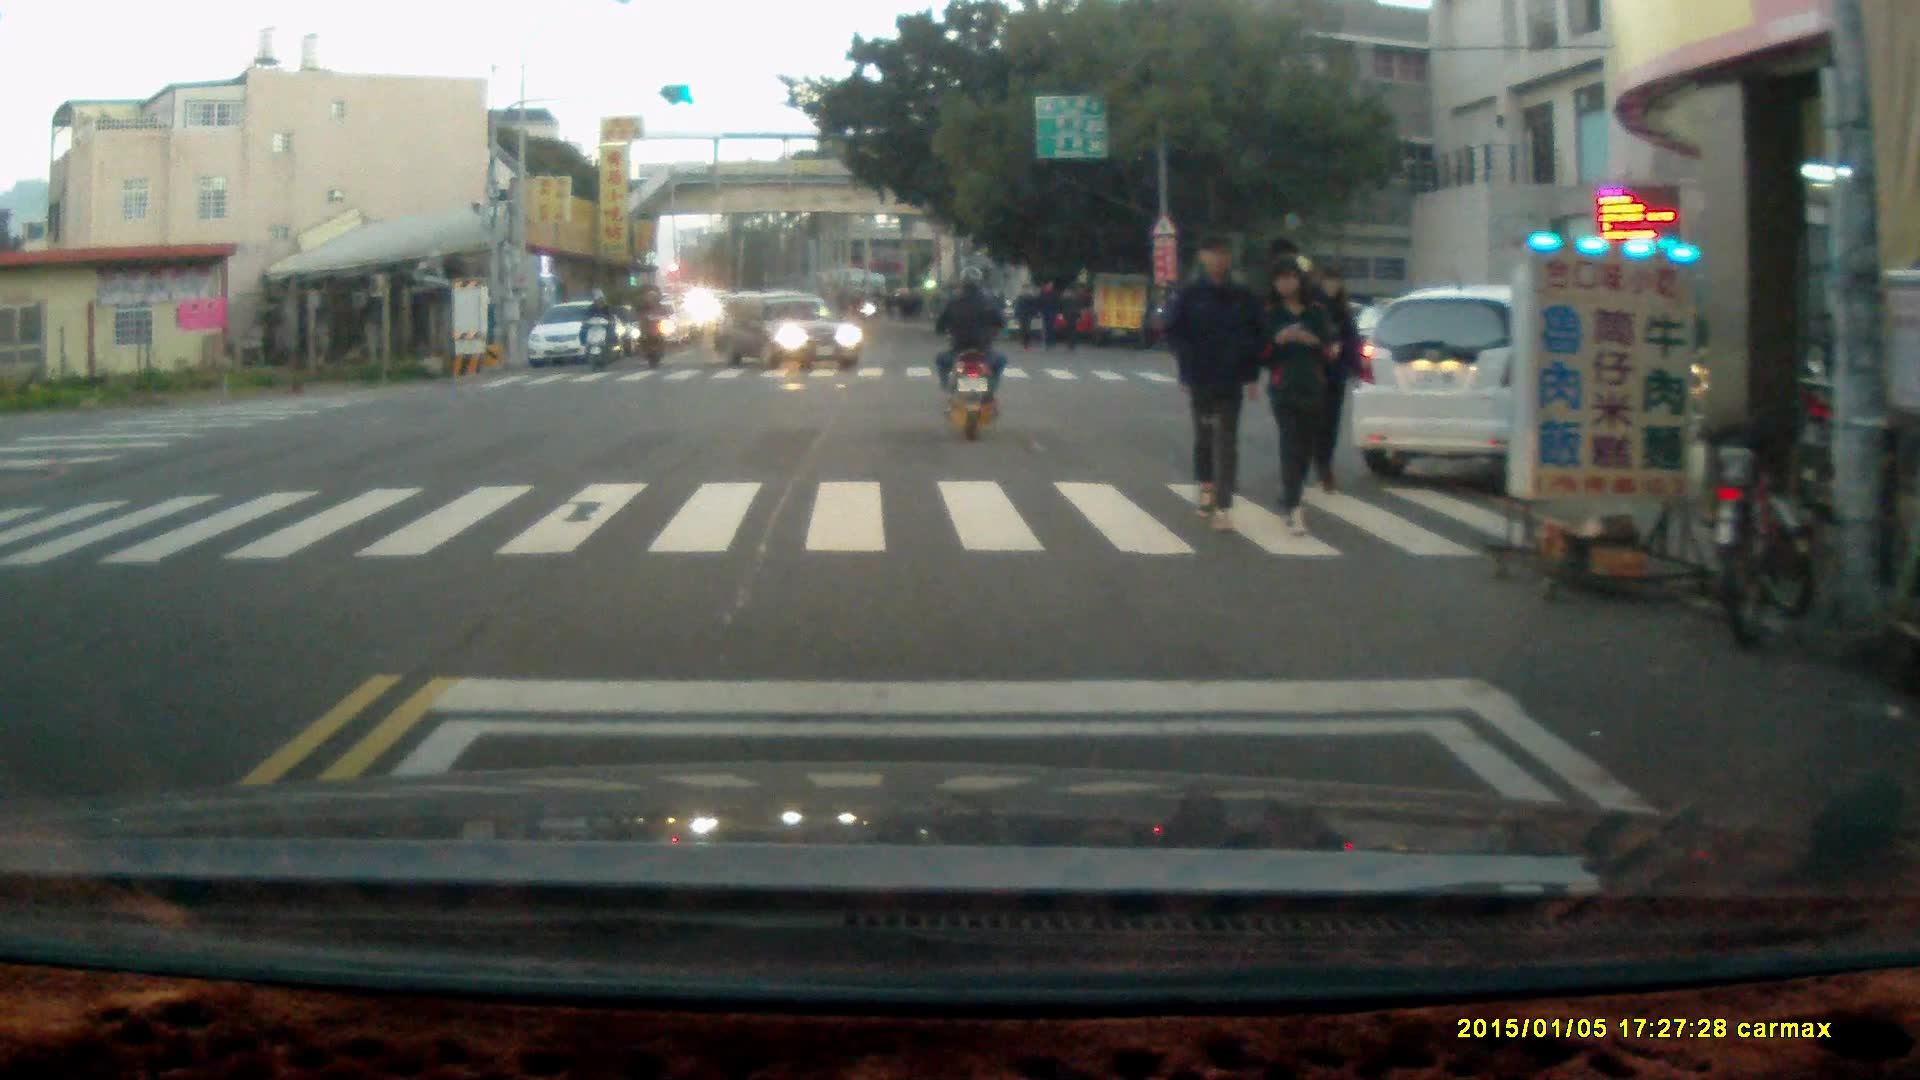pedestrian: (1163, 227, 1262, 531), (1256, 251, 1336, 530), (1034, 274, 1061, 351), (1055, 283, 1084, 352), (1012, 279, 1037, 349)
rider: (935, 260, 1005, 441), (633, 281, 673, 368), (580, 282, 616, 368)
vehicle: (1360, 293, 1741, 493), (715, 284, 864, 375), (529, 302, 627, 369)
